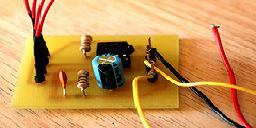Electrolytic Capacitor: (91, 53, 126, 94)
